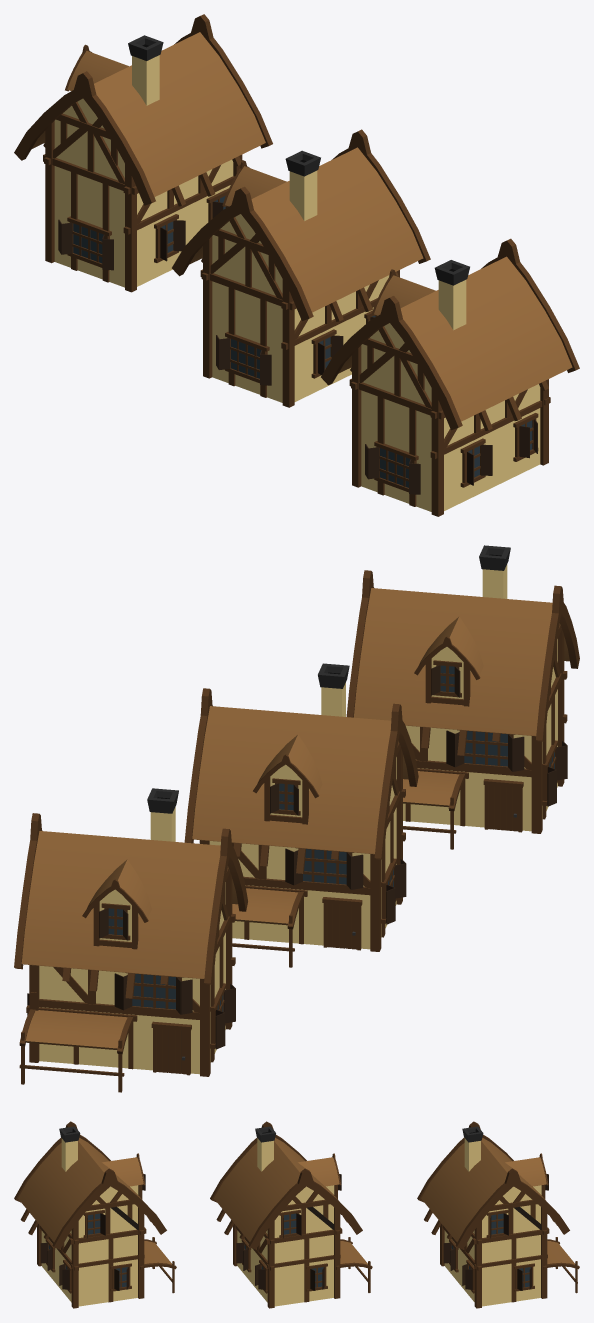
Rendered from houserow_byzantine.obj.
3 renders of one model, top to bottom at view 1: azimuth 30°, elevation 25°; view 2: azimuth 150°, elevation 25°; view 3: azimuth 270°, elevation 25°, orthographic. The views are drawn at different scales.
Visible parts, largest first — view 1: pCube6453_Untitled.002, pCube6453_Untitled.004, pCube6453_Untitled.003; view 2: pCube6453_Untitled.004, pCube6453_Untitled.003, pCube6453_Untitled.002; view 3: pCube6453_Untitled.002, pCube6453_Untitled.004, pCube6453_Untitled.003.
Boxes of the visible parts, x1,y1,x2,y2 form: pCube6453_Untitled.002: (321, 238, 579, 516); pCube6453_Untitled.004: (14, 14, 272, 292); pCube6453_Untitled.003: (172, 129, 430, 407); pCube6453_Untitled.004: (14, 788, 247, 1092); pCube6453_Untitled.003: (184, 663, 418, 967); pCube6453_Untitled.002: (346, 545, 579, 849); pCube6453_Untitled.002: (14, 1121, 176, 1308); pCube6453_Untitled.004: (417, 1121, 579, 1308); pCube6453_Untitled.003: (210, 1121, 372, 1308).
Size of the model in its own units: 12.15 by 12.69 by 44.57.
